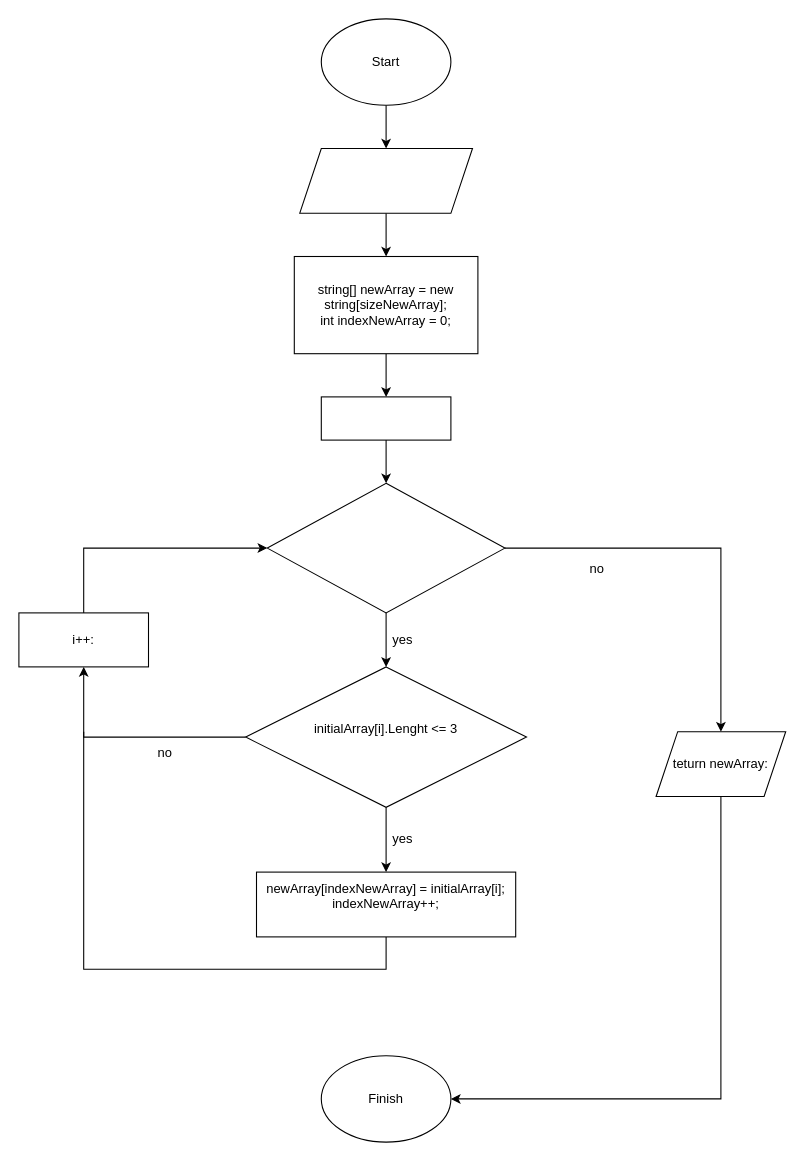
Some shapes in this 805 by 1161 pixel diagram are drawn without their labels. The shapes that lost their labels are listed below. From the top down, each one's centre as x and y in pixels, then its label:
At (x=386, y=180): "string[] initialArray, int sizeNew".
At (x=385, y=418): "int i =0;".
At (x=385, y=547): "i < initialArray.Lenght".
